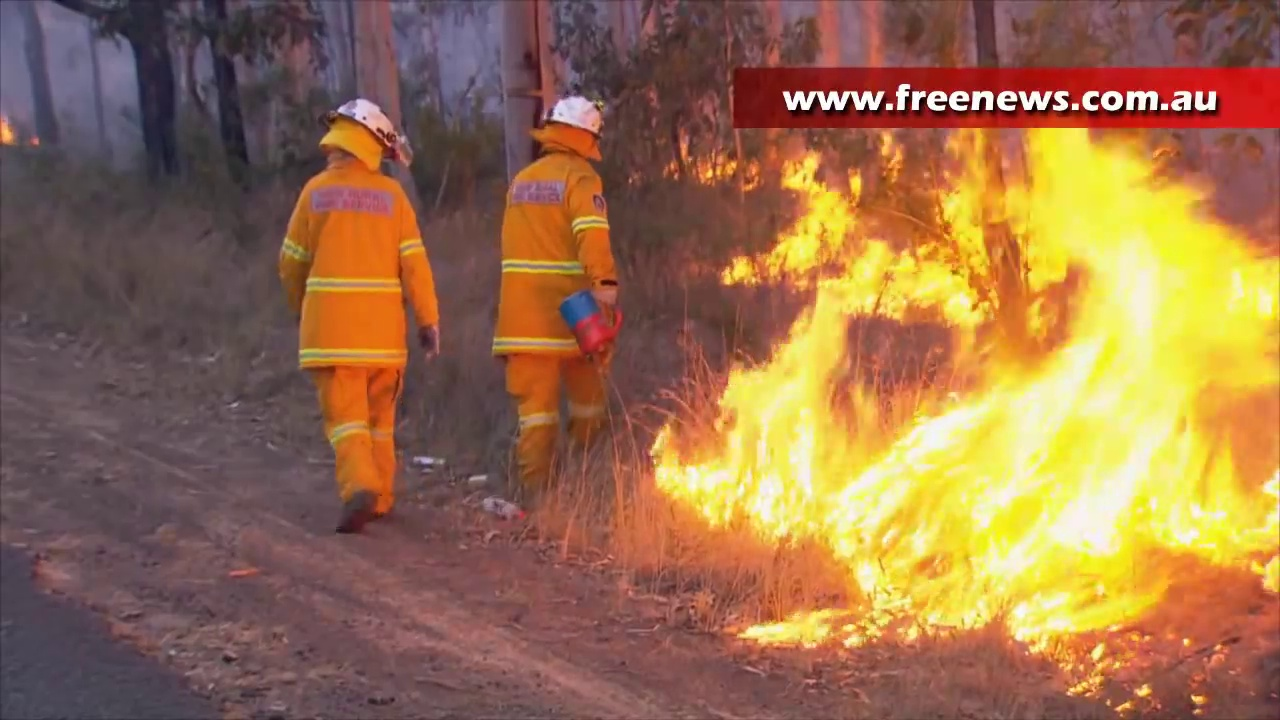fire: (650, 124, 1280, 646)
